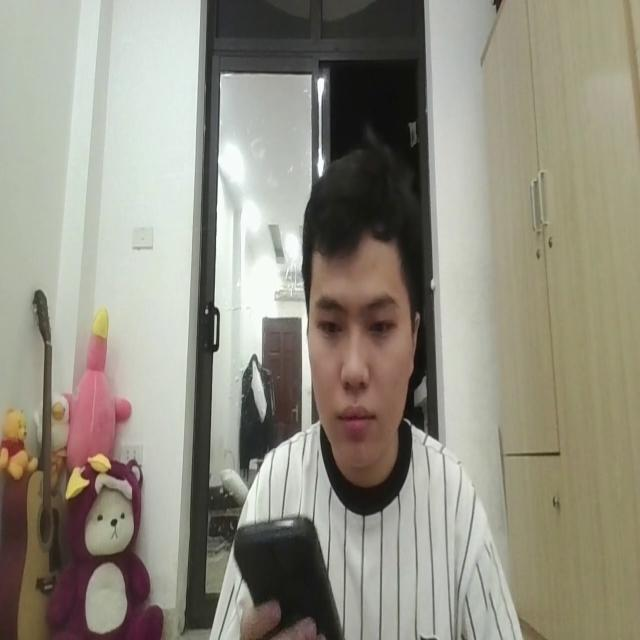phone: (228, 508, 352, 640)
student: (211, 142, 523, 640)
